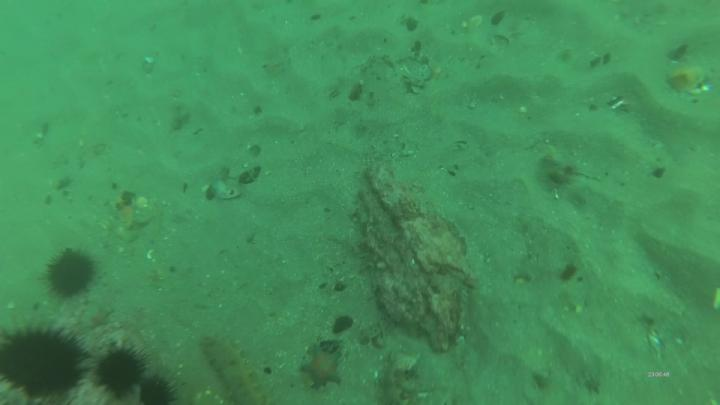echinus: (2, 317, 94, 405), (97, 342, 146, 403), (47, 247, 95, 301), (139, 371, 186, 403)
starfish: (301, 341, 348, 392)
